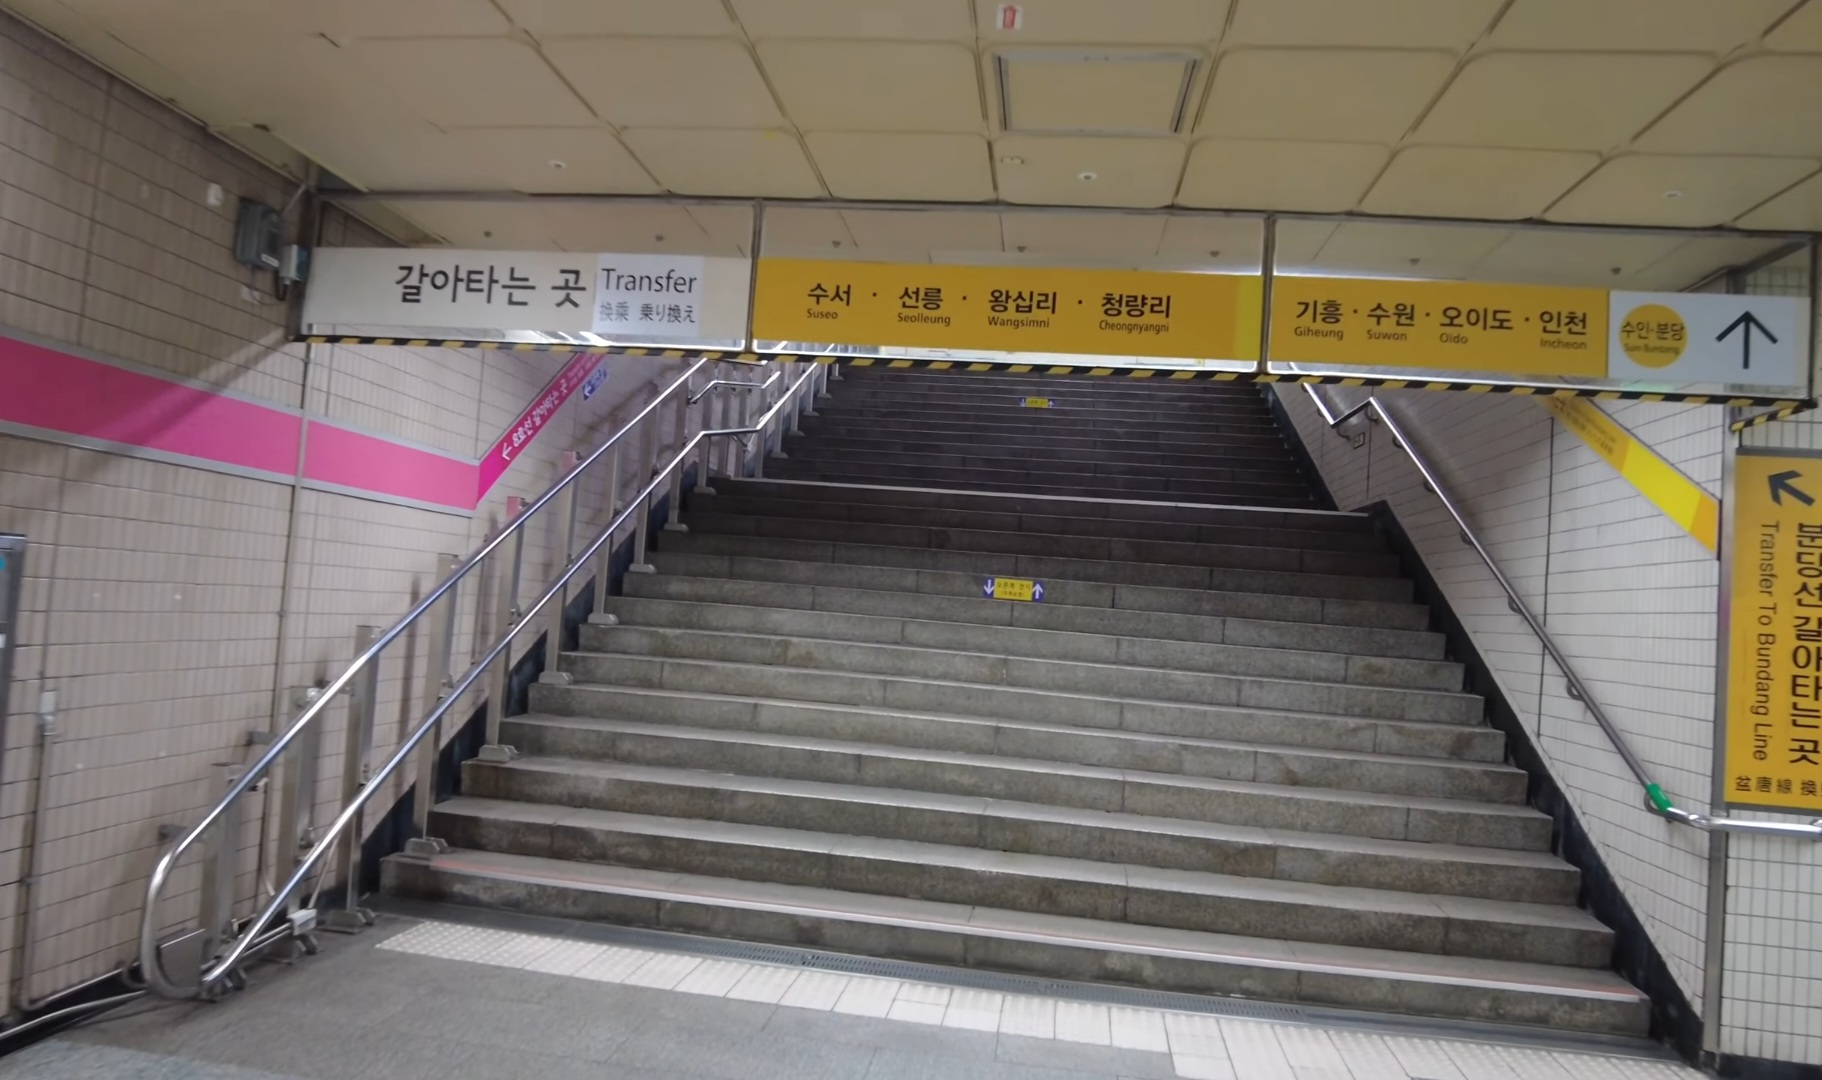signBoard: (291, 219, 1819, 406)
